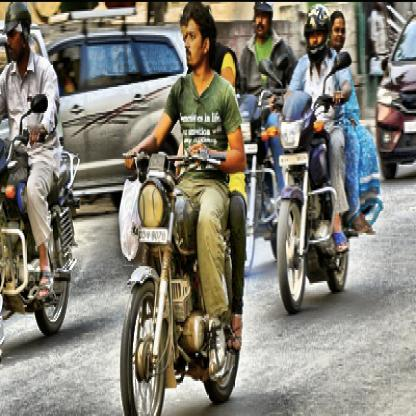not_wear: (188, 2, 214, 74), (5, 3, 32, 66), (330, 14, 343, 54)
wear: (307, 3, 329, 62), (253, 0, 271, 38)
